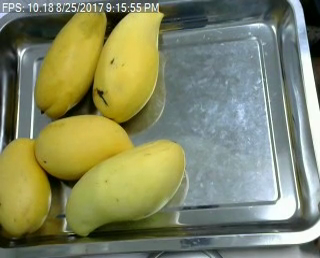Mango: (61, 138, 186, 235), (31, 1, 108, 119), (90, 5, 167, 123), (34, 111, 131, 177), (0, 137, 55, 234)
